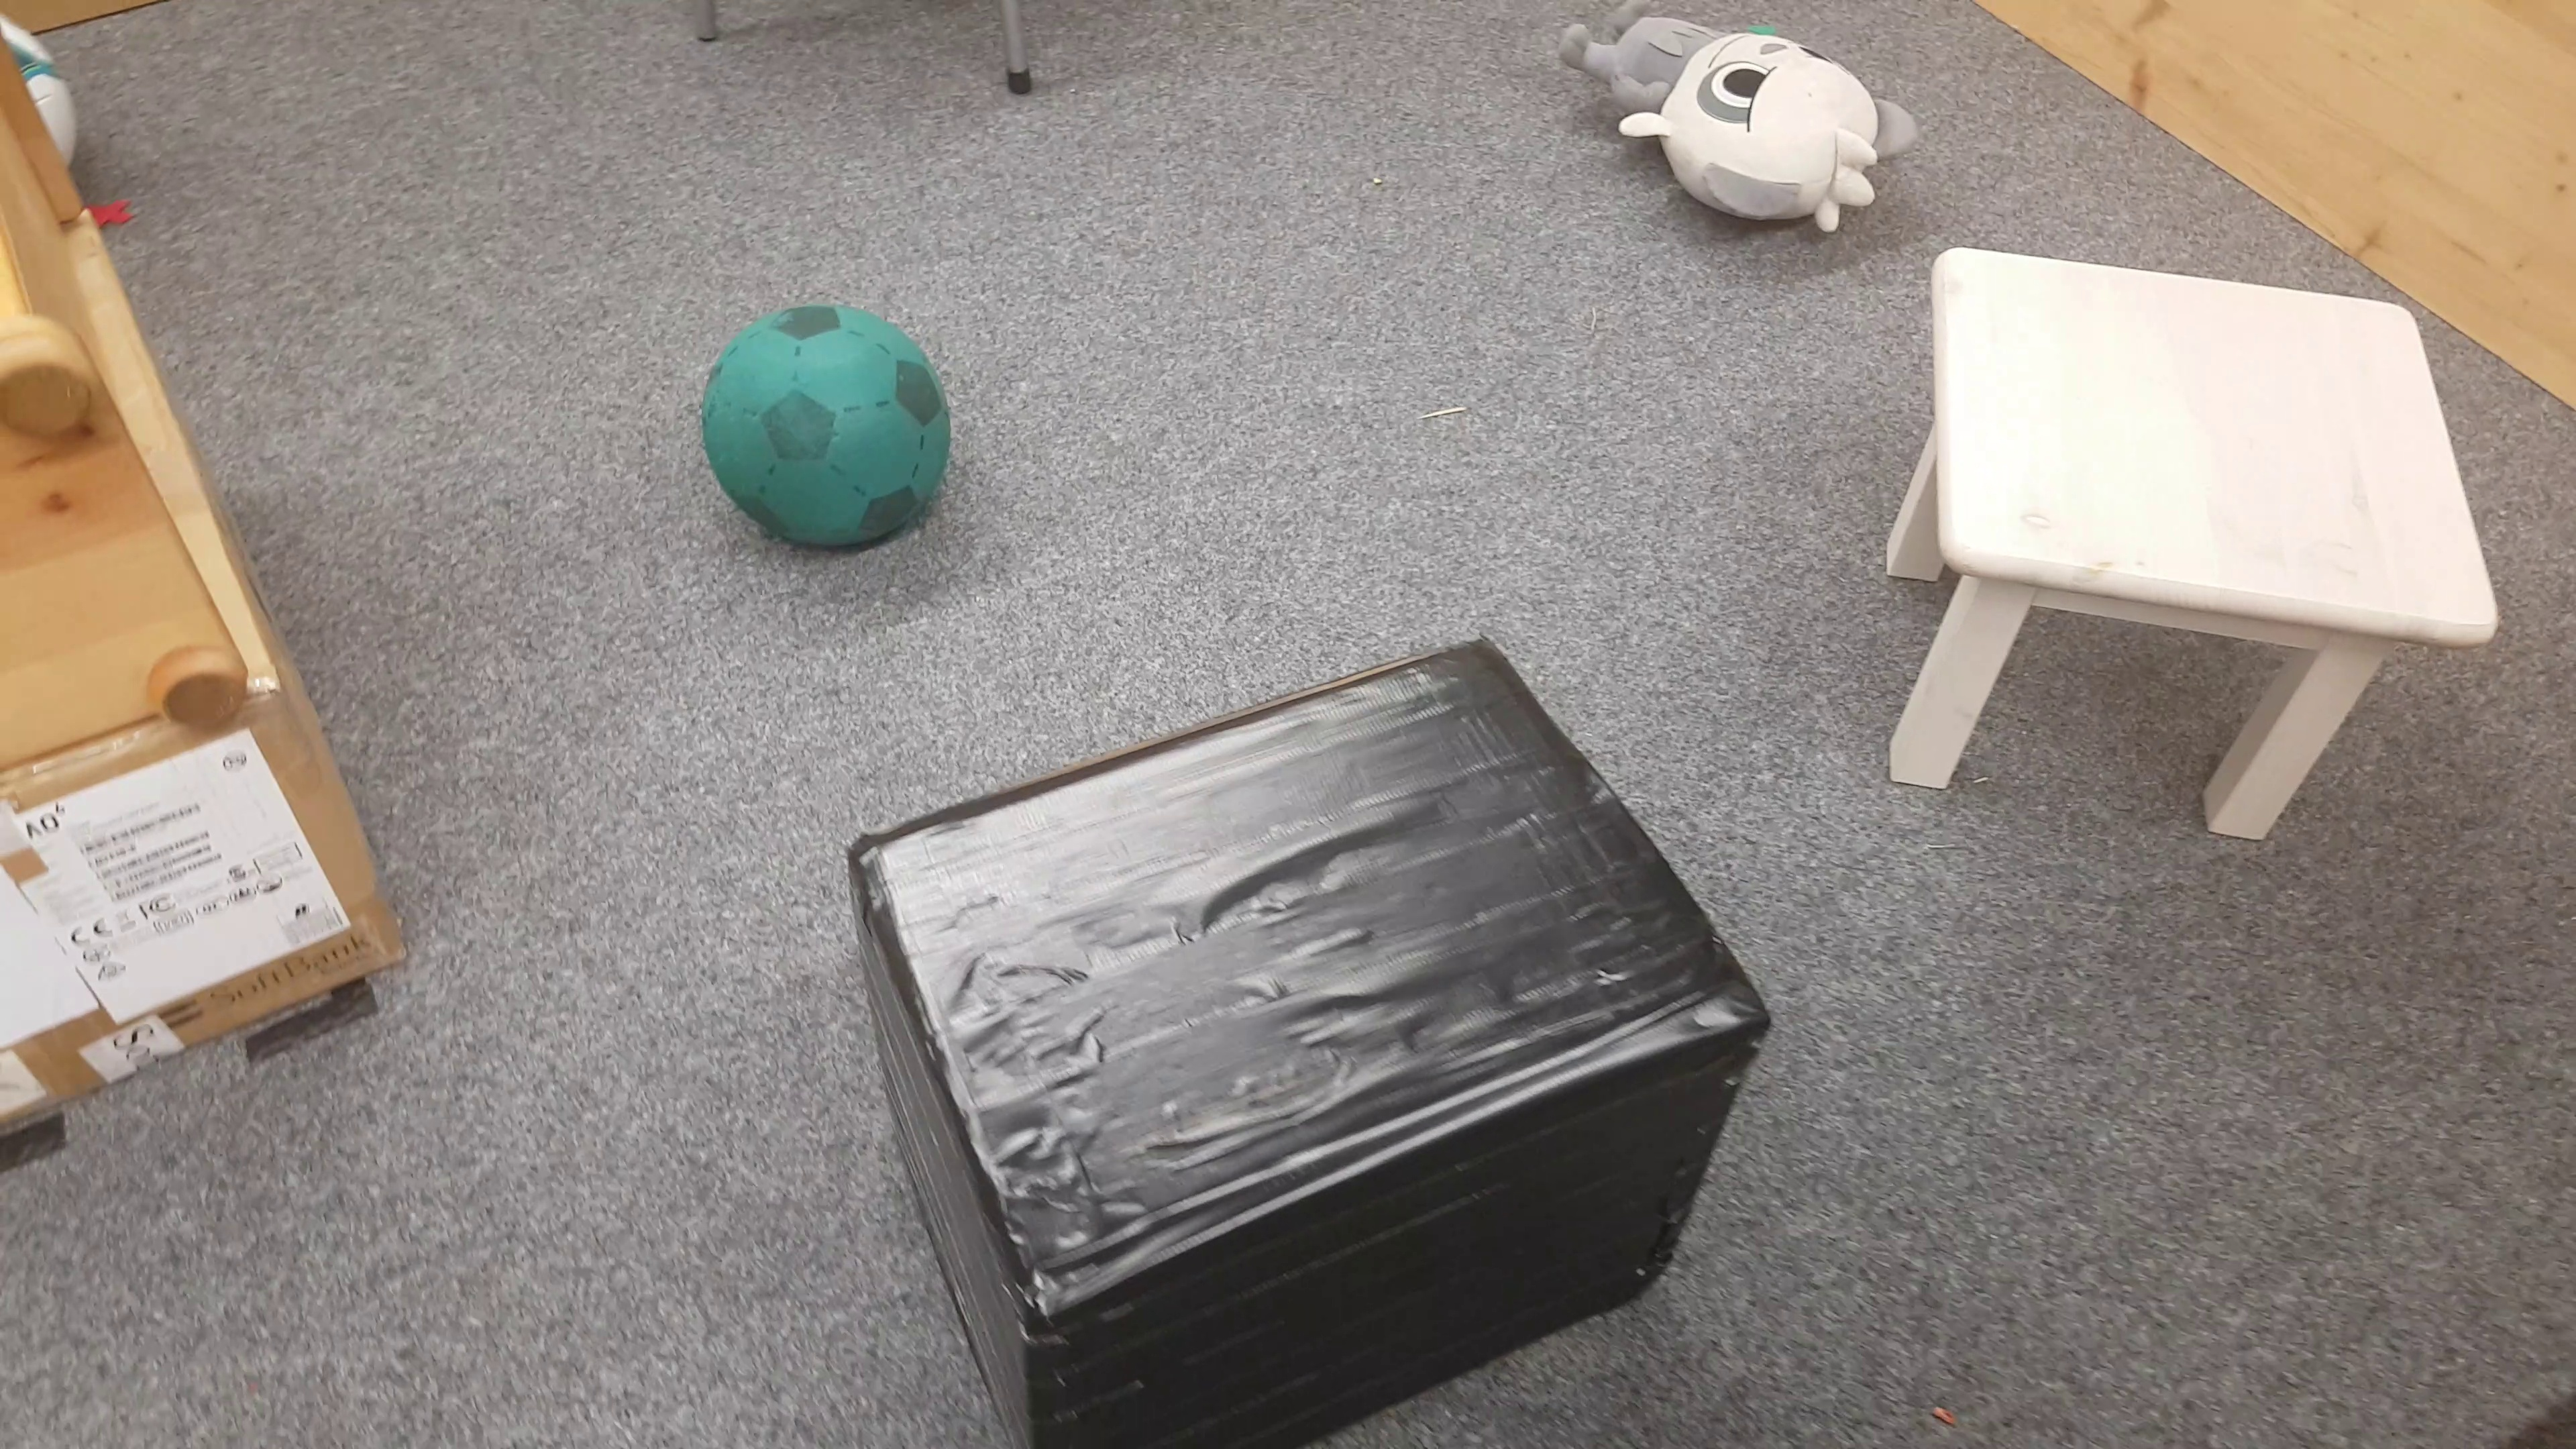grasp: (1555, 2, 1913, 241)
kick: (706, 304, 957, 557)
push: (867, 633, 1764, 1449)
